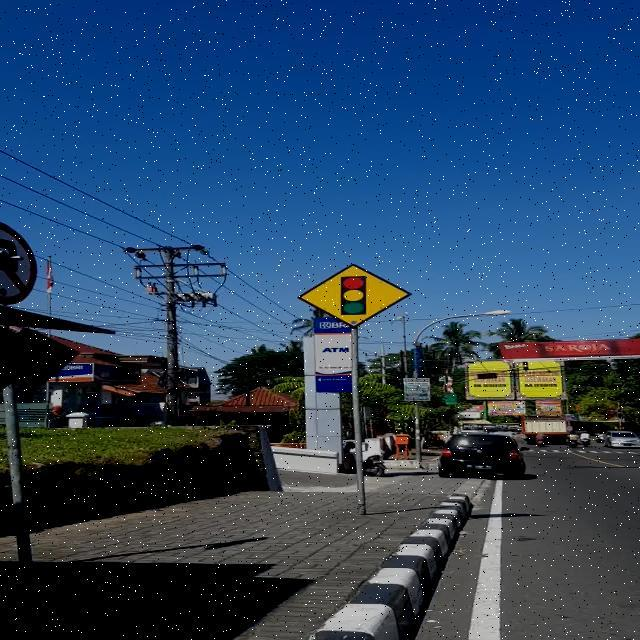Lampu Lalu Lintas: (298, 264, 412, 328)
